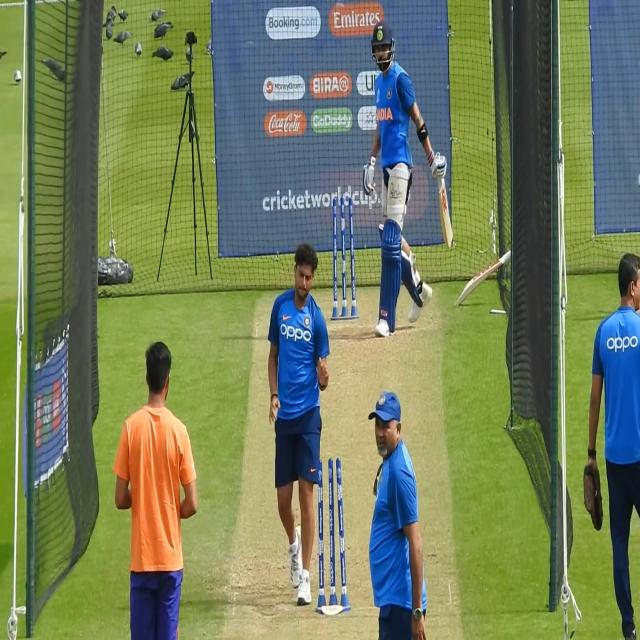stump: (315, 457, 347, 614), (332, 195, 358, 321)
